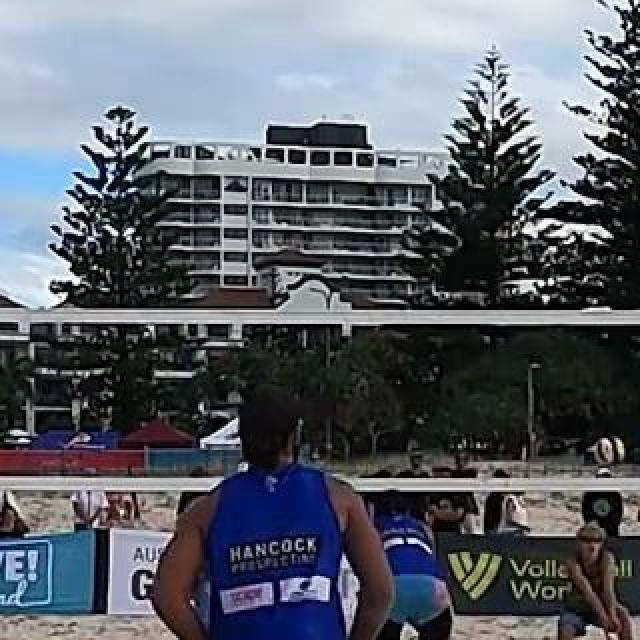volleyball: (598, 438, 626, 466)
